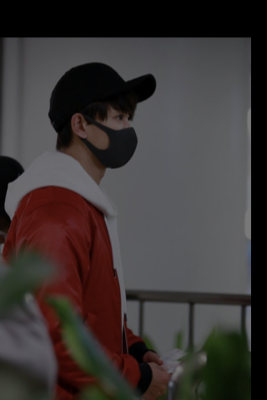with_mask: (92, 110, 139, 171)
